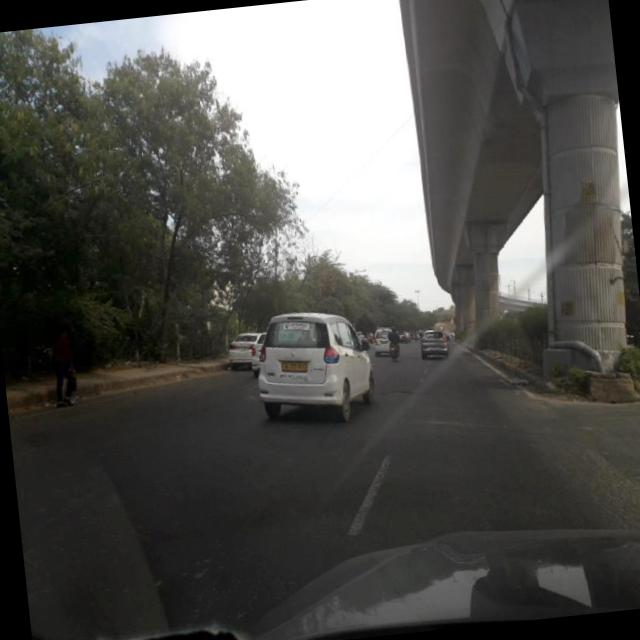crack: (104, 508, 328, 628), (452, 406, 640, 541)
pothole: (376, 373, 420, 408)
